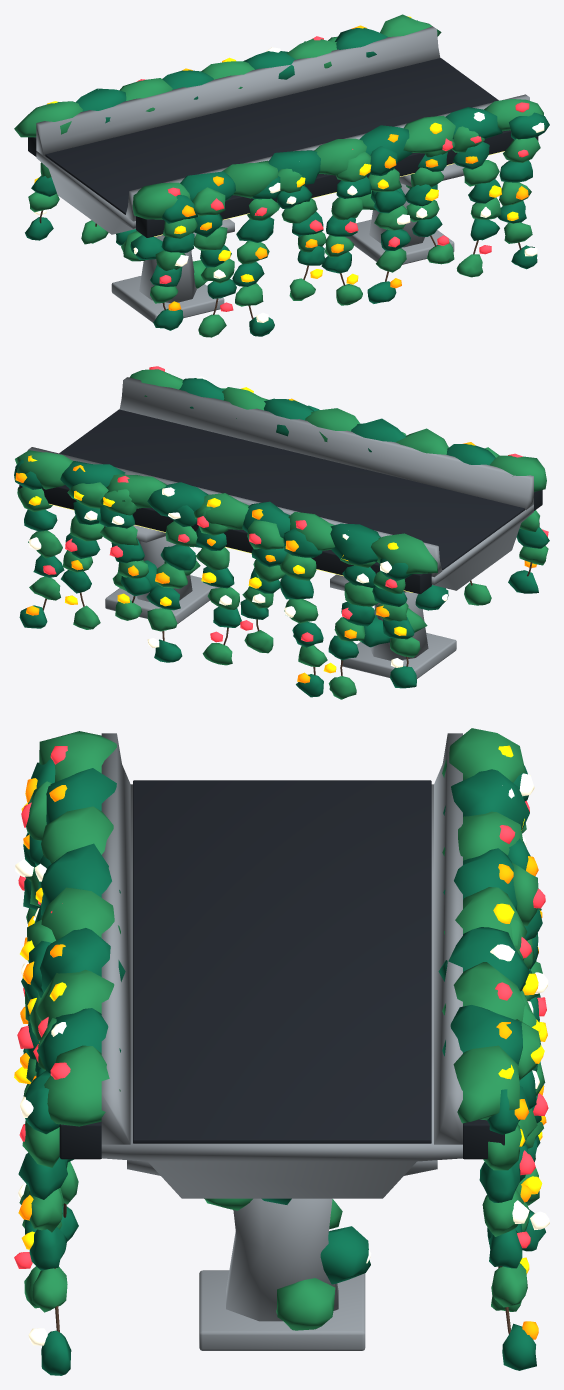
The model's file is green_viaduct_module.glb.
3 views of the same model, one above another, from view 1: azimuth 30°, elevation 25°; view 2: azimuth 150°, elevation 25°; view 3: azimuth 270°, elevation 25° (orthographic). The views are drawn at different scales.
Parts seen in each view (by area): view 1: Viaduct_Asphalt, Viaduct_Parapet_Rear, Viaduct_PlanterTrough_Front, Viaduct_BoxGirder_Deck, Viaduct_Footing_-2.9, Viaduct_Crown_Front_6, Viaduct_Footing_+2.9, Viaduct_Crown_Front_0, Viaduct_Crown_Front_2, Viaduct_Crown_Rear_0, Viaduct_Crown_Front_4, Viaduct_Pier_-2.9 (+75 smaller); view 2: Viaduct_Asphalt, Viaduct_Parapet_Front, Viaduct_PlanterTrough_Rear, Viaduct_BoxGirder_Deck, Viaduct_Footing_-2.9, Viaduct_Crown_Rear_0, Viaduct_Crown_Rear_1, Viaduct_Footing_+2.9, Viaduct_Crown_Rear_8, Viaduct_Crown_Rear_5, Viaduct_Crown_Rear_4, Viaduct_Crown_Rear_6 (+72 smaller); view 3: Viaduct_Asphalt, Viaduct_BoxGirder_Deck, Viaduct_Pier_+2.9, Viaduct_Parapet_Front, Viaduct_Parapet_Rear, Viaduct_Footing_+2.9, Viaduct_Crown_Front_8, Viaduct_Crown_Rear_8, Viaduct_Crown_Rear_1, Viaduct_Crown_Rear_0, Viaduct_Crown_Front_3, Viaduct_Crown_Front_4 (+33 smaller).
Part boxes in pixels (box(x1,y1,x2,y2)): Viaduct_Asphalt: box(45, 58, 498, 214); Viaduct_Parapet_Rear: box(36, 26, 440, 155); Viaduct_PlanterTrough_Front: box(136, 130, 538, 237); Viaduct_BoxGirder_Deck: box(36, 151, 135, 234); Viaduct_Footing_-2.9: box(111, 276, 224, 322); Viaduct_Crown_Front_6: box(403, 115, 455, 153); Viaduct_Footing_+2.9: box(345, 219, 454, 264); Viaduct_Crown_Front_0: box(132, 182, 190, 219); Viaduct_Crown_Front_2: box(222, 160, 277, 198); Viaduct_Crown_Rear_0: box(14, 101, 82, 137); Viaduct_Crown_Front_4: box(314, 138, 366, 175); Viaduct_Pier_-2.9: box(139, 236, 196, 302); Viaduct_Asphalt: box(59, 409, 524, 570); Viaduct_Parapet_Front: box(119, 377, 533, 509); Viaduct_PlanterTrough_Rear: box(19, 485, 431, 593); Viaduct_BoxGirder_Deck: box(431, 504, 533, 590); Viaduct_Footing_-2.9: box(341, 633, 456, 678); Viaduct_Crown_Rear_0: box(371, 533, 437, 574); Viaduct_Crown_Rear_1: box(330, 523, 380, 564); Viaduct_Footing_+2.9: box(105, 575, 219, 623); Viaduct_Crown_Rear_8: box(15, 450, 72, 489); Viaduct_Crown_Rear_5: box(147, 482, 208, 516); Viaduct_Crown_Rear_4: box(194, 493, 249, 529); Viaduct_Crown_Rear_6: box(106, 474, 166, 508); Viaduct_Asphalt: box(133, 780, 431, 1143); Viaduct_BoxGirder_Deck: box(101, 784, 462, 1198); Viaduct_Pier_+2.9: box(226, 1198, 338, 1321); Viaduct_Parapet_Front: box(101, 733, 130, 1144); Viaduct_Parapet_Rear: box(434, 733, 462, 1144); Viaduct_Footing_+2.9: box(199, 1270, 365, 1350); Viaduct_Crown_Front_8: box(44, 1045, 120, 1126); Viaduct_Crown_Rear_8: box(453, 1045, 519, 1123); Viaduct_Crown_Rear_1: box(443, 769, 529, 831); Viaduct_Crown_Rear_0: box(442, 728, 525, 782); Viaduct_Crown_Front_3: box(41, 843, 120, 915); Viaduct_Crown_Front_4: box(40, 887, 120, 940).
Bounding box in the file's own units: 10.58 × 4.15 × 6.29.
